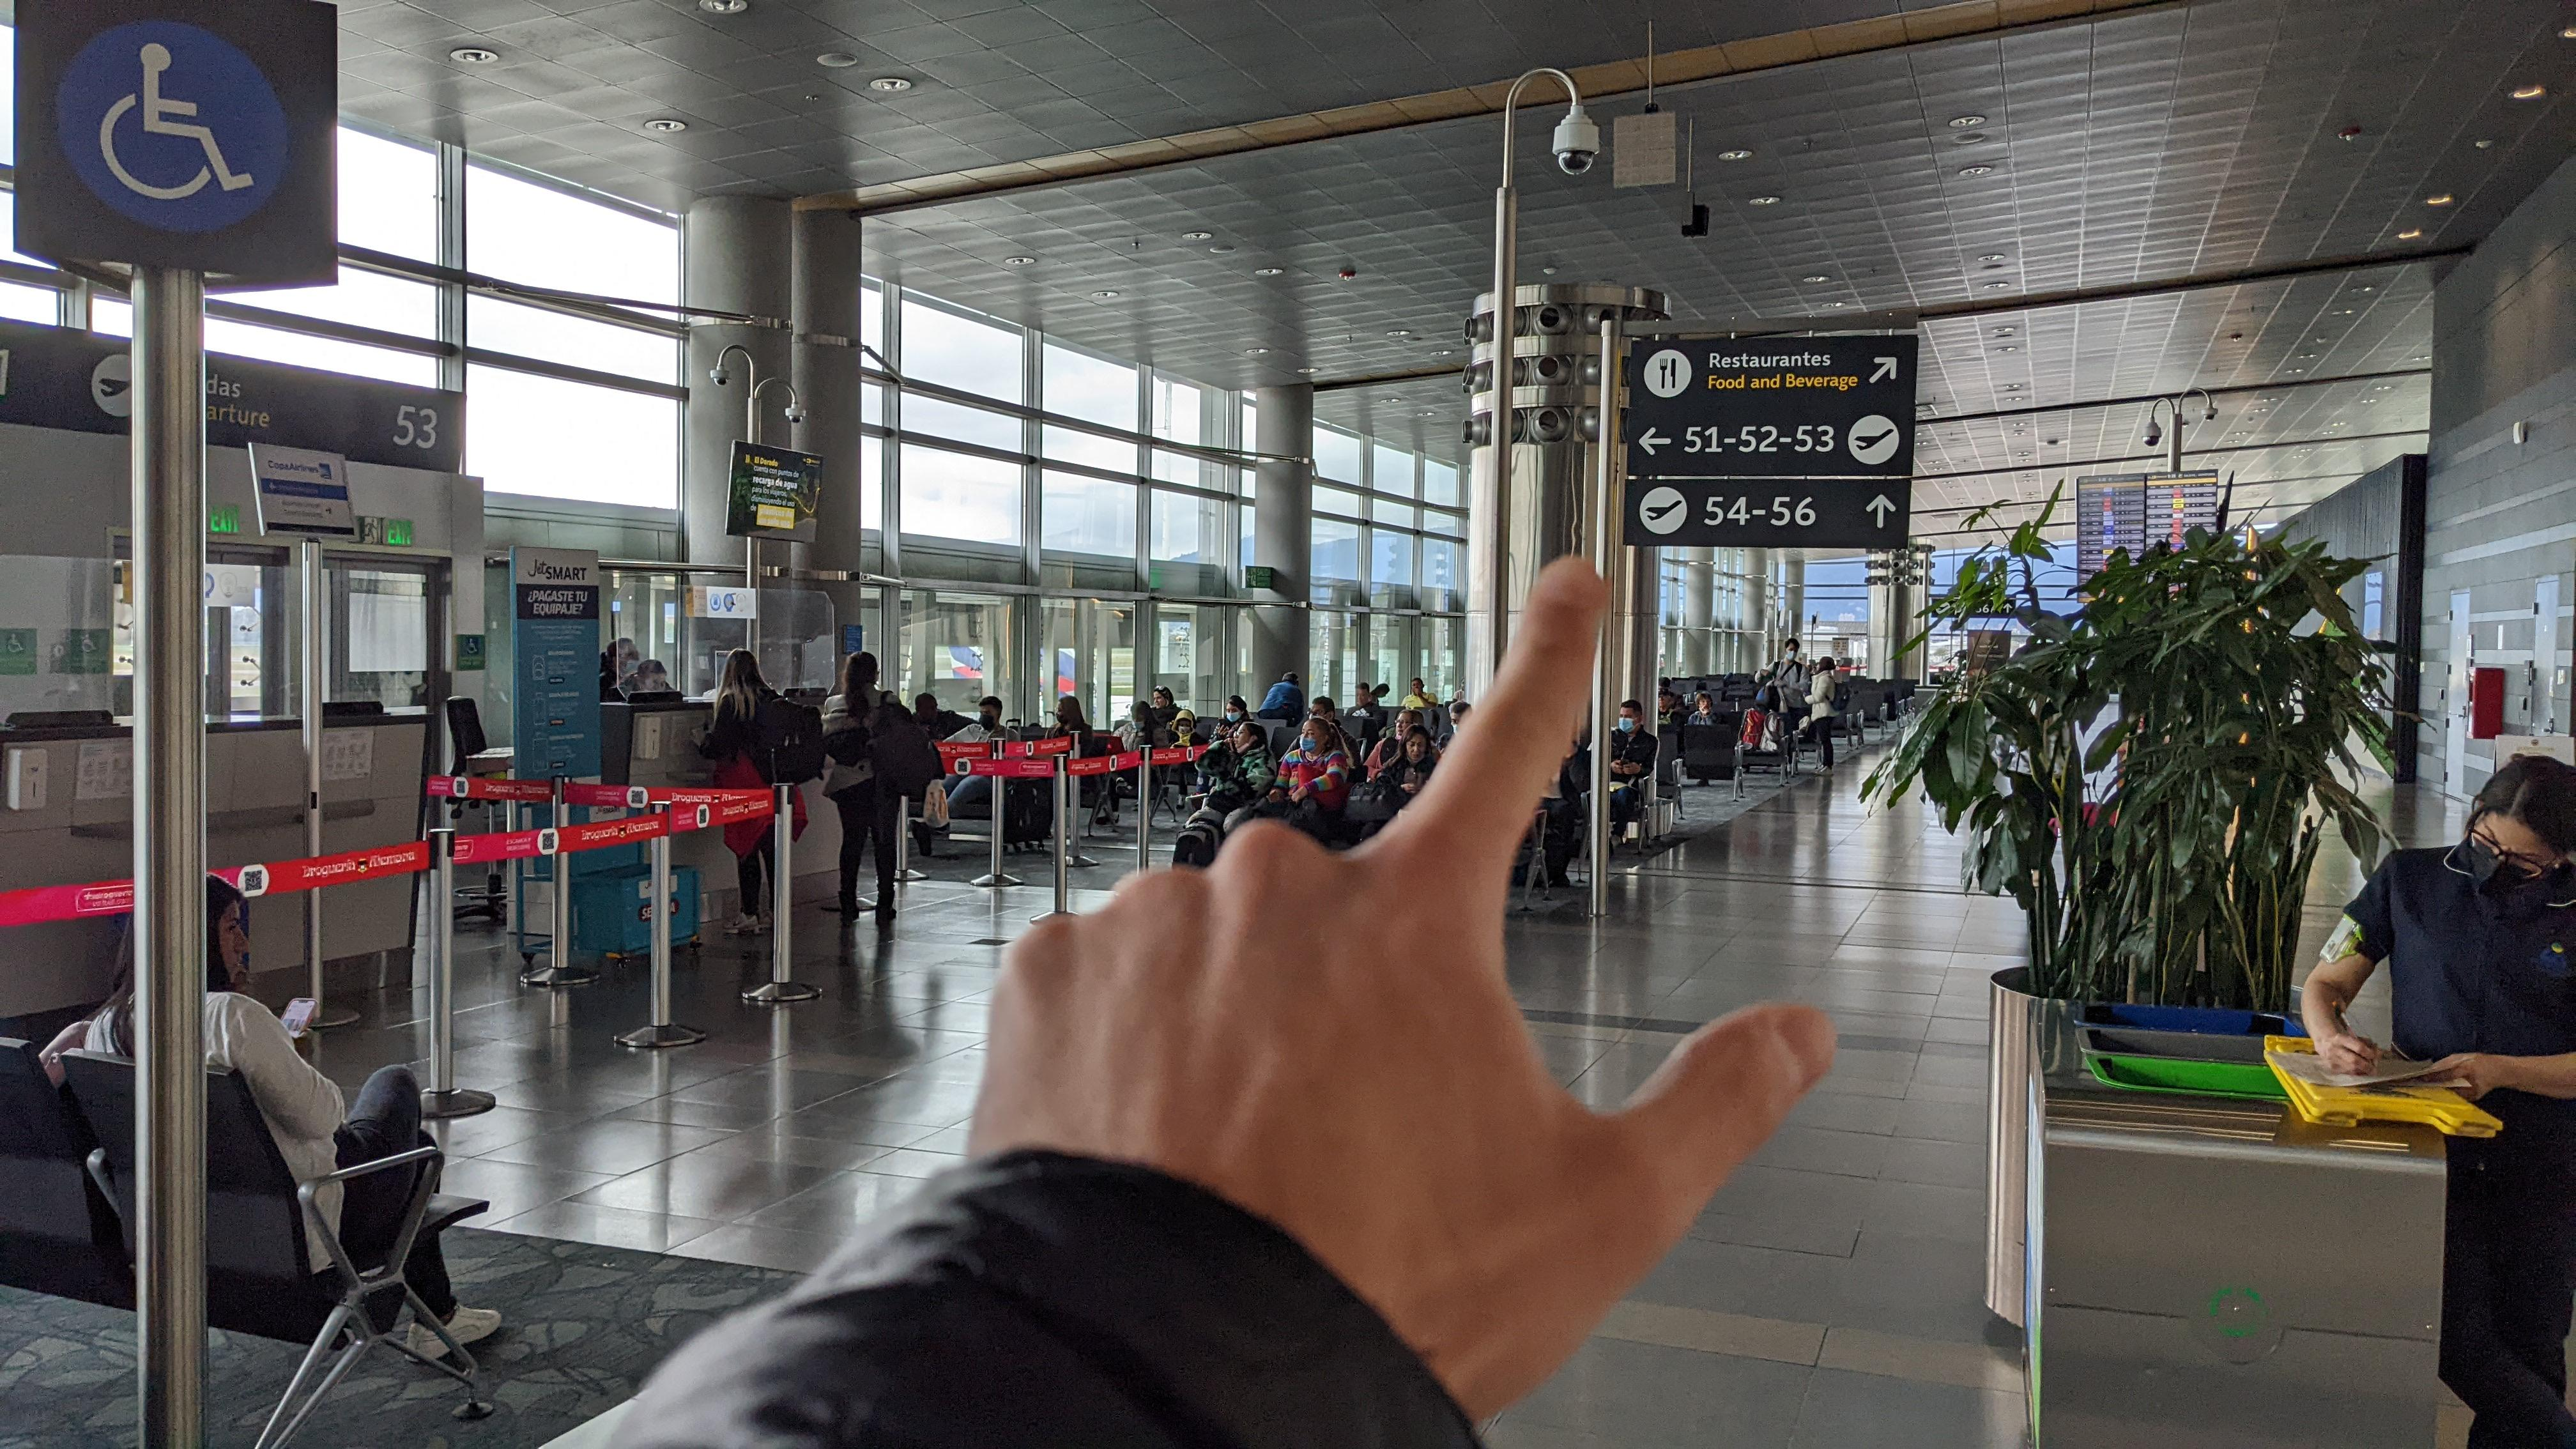airplane symbol: (1852, 426, 1895, 453), (1645, 499, 1684, 522), (99, 375, 134, 396)
emergency exit: (363, 518, 379, 545)
handicapped symbol: (92, 34, 260, 205), (78, 632, 99, 653), (5, 633, 27, 653), (465, 637, 479, 655)
left arrow: (1637, 426, 1674, 458)
restaurants: (1656, 356, 1679, 389)
up arrow: (1863, 492, 1897, 529)
